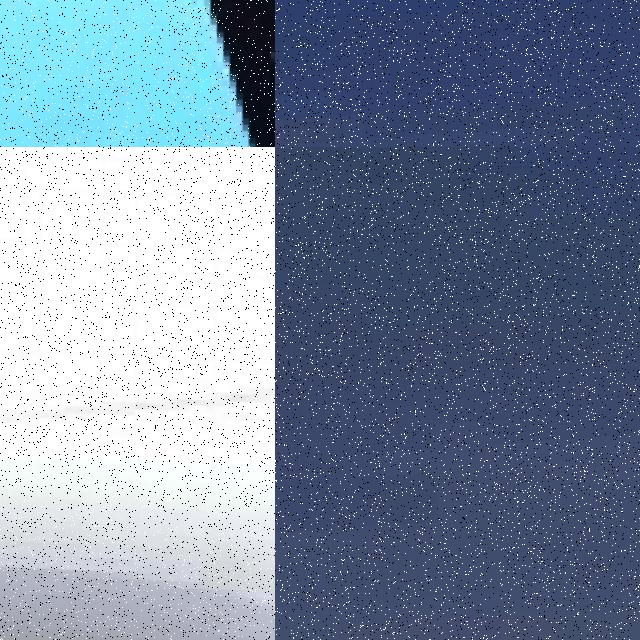drone: (0, 147, 275, 640), (0, 0, 275, 147)
